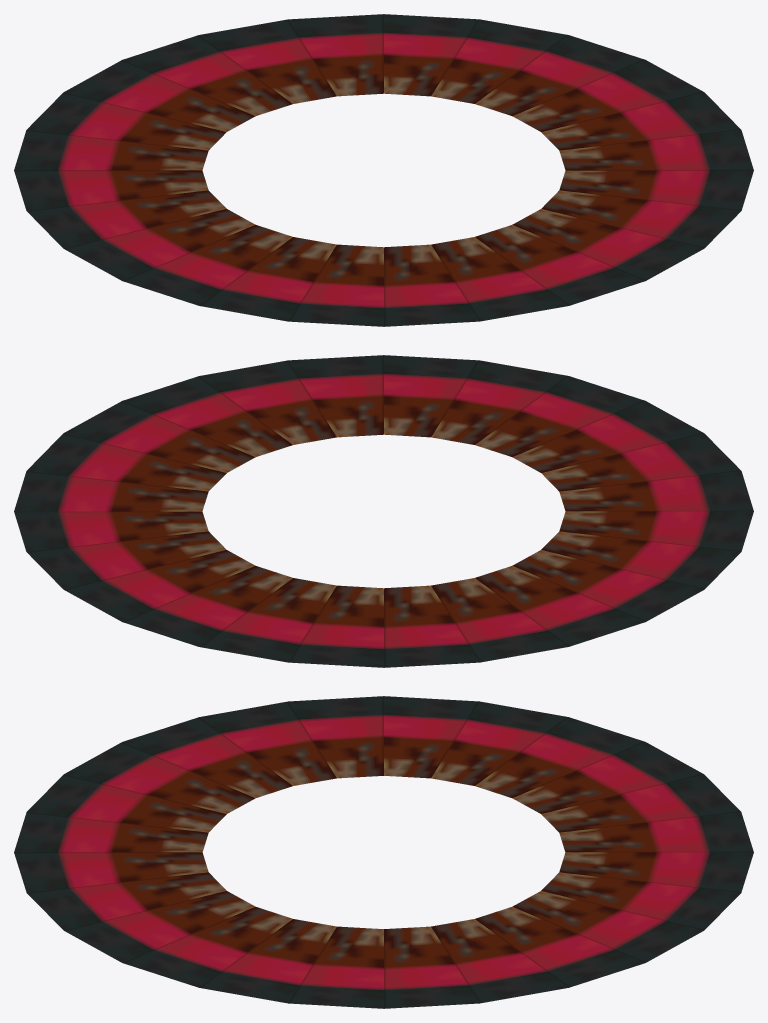
3 views of the same model, one above another, from view 1: azimuth 30°, elevation 25°; view 2: azimuth 150°, elevation 25°; view 3: azimuth 270°, elevation 25° (orthographic).
Visible parts, largest first — view 1: T1L4M007_27; view 2: T1L4M007_27; view 3: T1L4M007_27.
Part boxes in pixels (x1=…): T1L4M007_27: x1=14, y1=14, x2=753, y2=326; T1L4M007_27: x1=14, y1=355, x2=753, y2=667; T1L4M007_27: x1=14, y1=696, x2=753, y2=1008.
Bounding box in the file's own units: 3.43 × 0 × 3.43.
